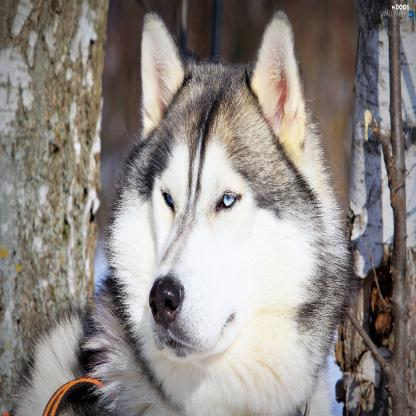husky: (8, 14, 347, 416)
